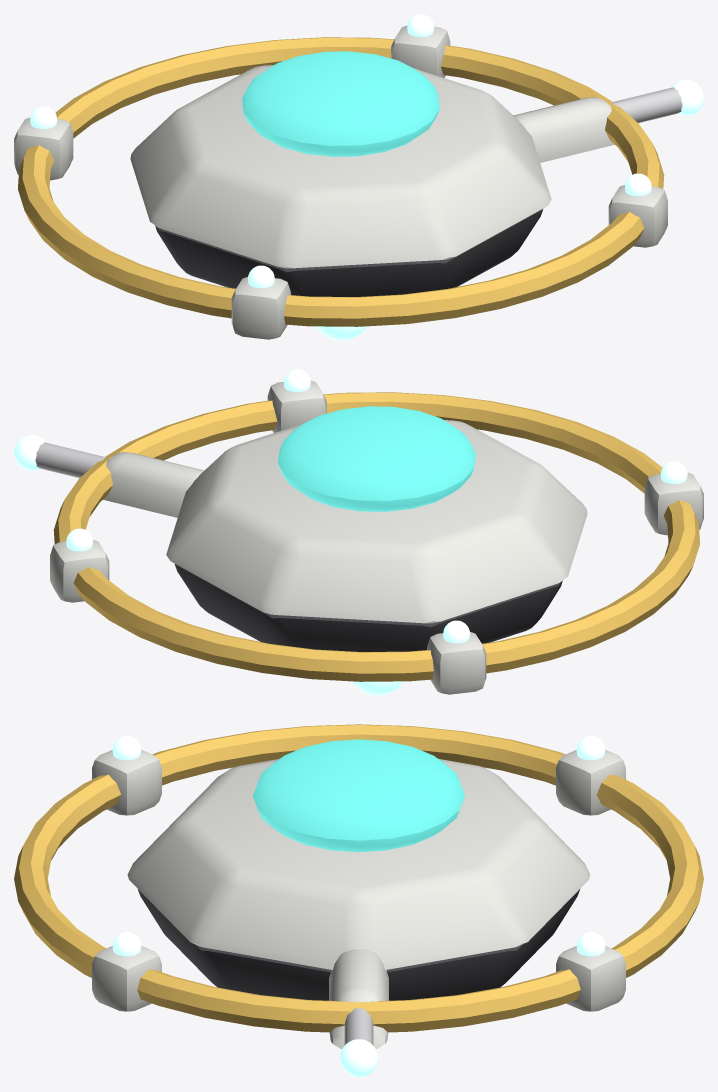
Rendered from rob_gunship.glb.
The picture shows the model from 3 angles, top to bottom: view 1: azimuth 30°, elevation 25°; view 2: azimuth 150°, elevation 25°; view 3: azimuth 270°, elevation 25°; orthographic projection. The views are drawn at different scales.
Visible parts, largest first — view 1: rob_gunship, spin_m; view 2: rob_gunship, spin_m; view 3: rob_gunship, spin_m.
Part boxes in pixels (box(x1,y1,x2,y2)): rob_gunship: box(130, 51, 703, 340); spin_m: box(14, 14, 667, 339); rob_gunship: box(14, 406, 587, 695); spin_m: box(50, 369, 703, 694); rob_gunship: box(127, 739, 590, 1077); spin_m: box(14, 724, 703, 1032).
Bounding box in the file's own units: 1.63 × 0.65 × 1.43.
